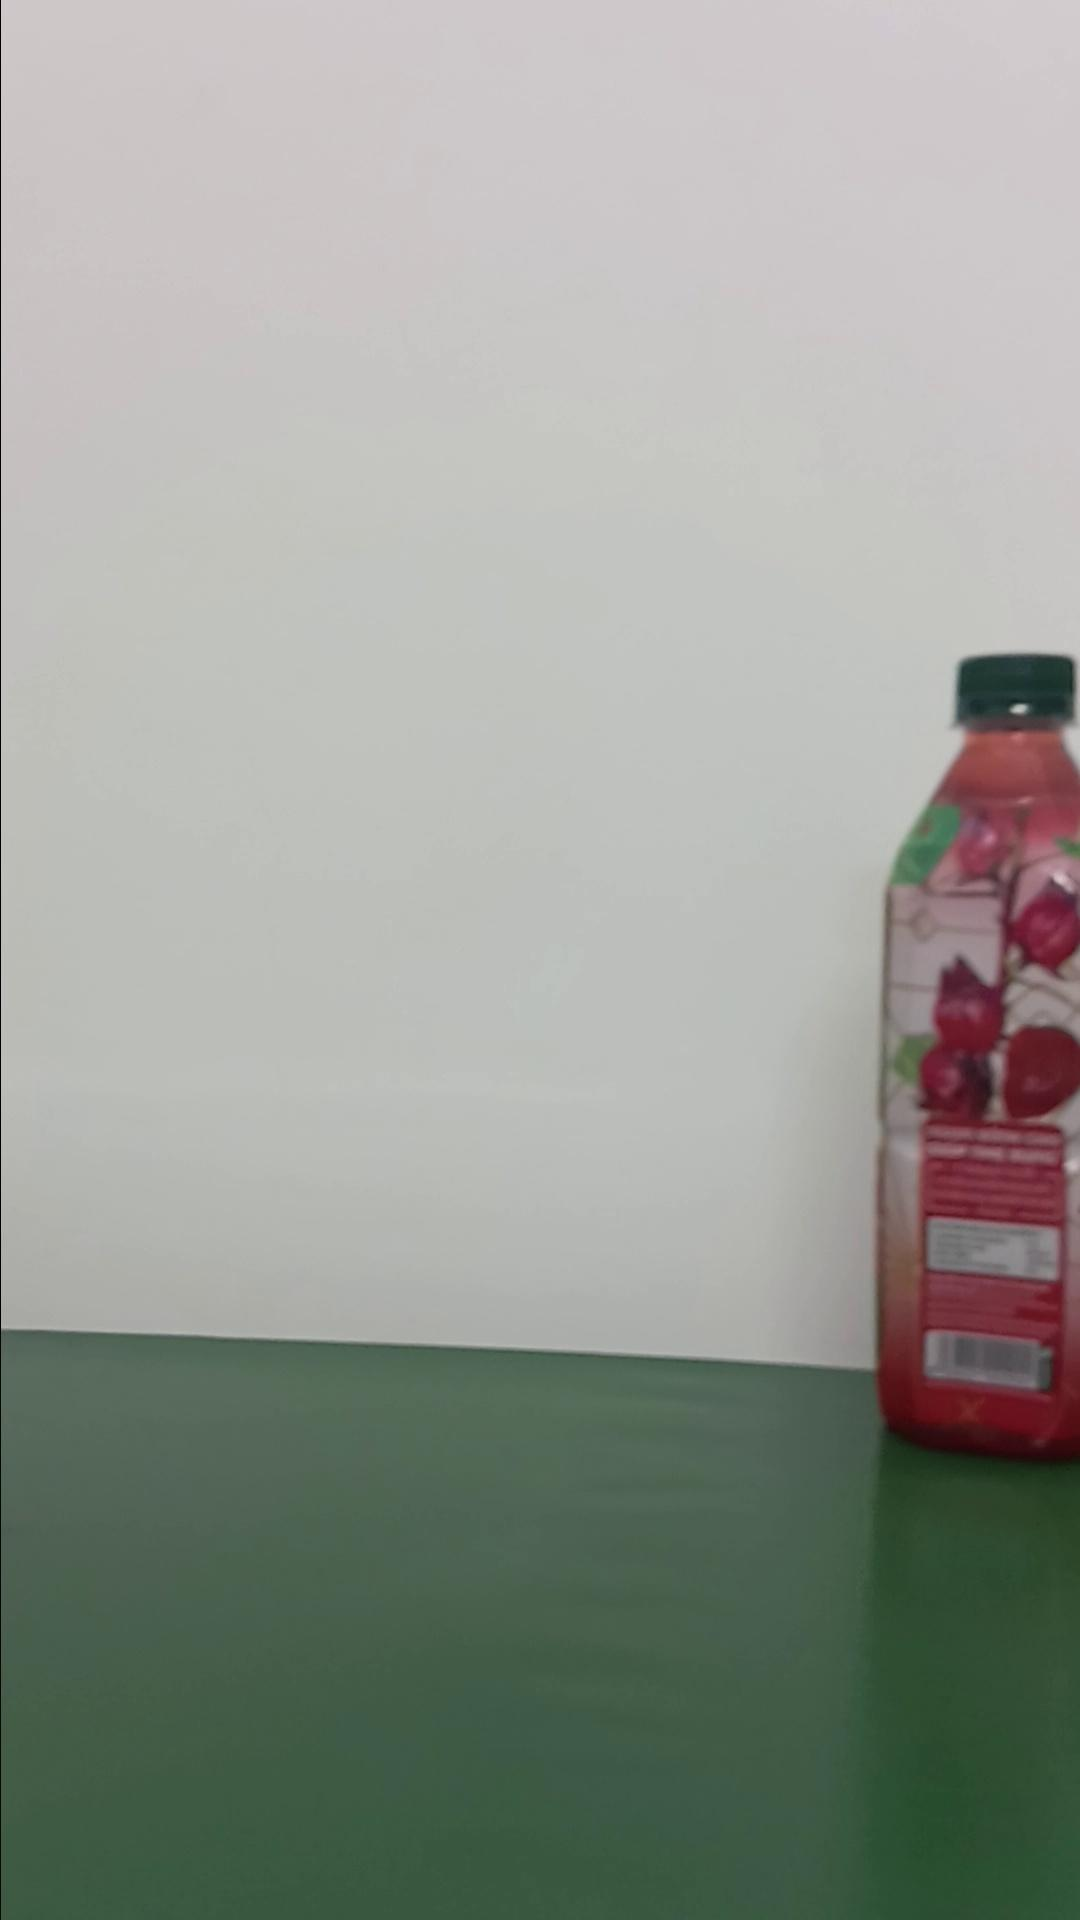loi rach va lap chai: (866, 640, 1080, 1452)
